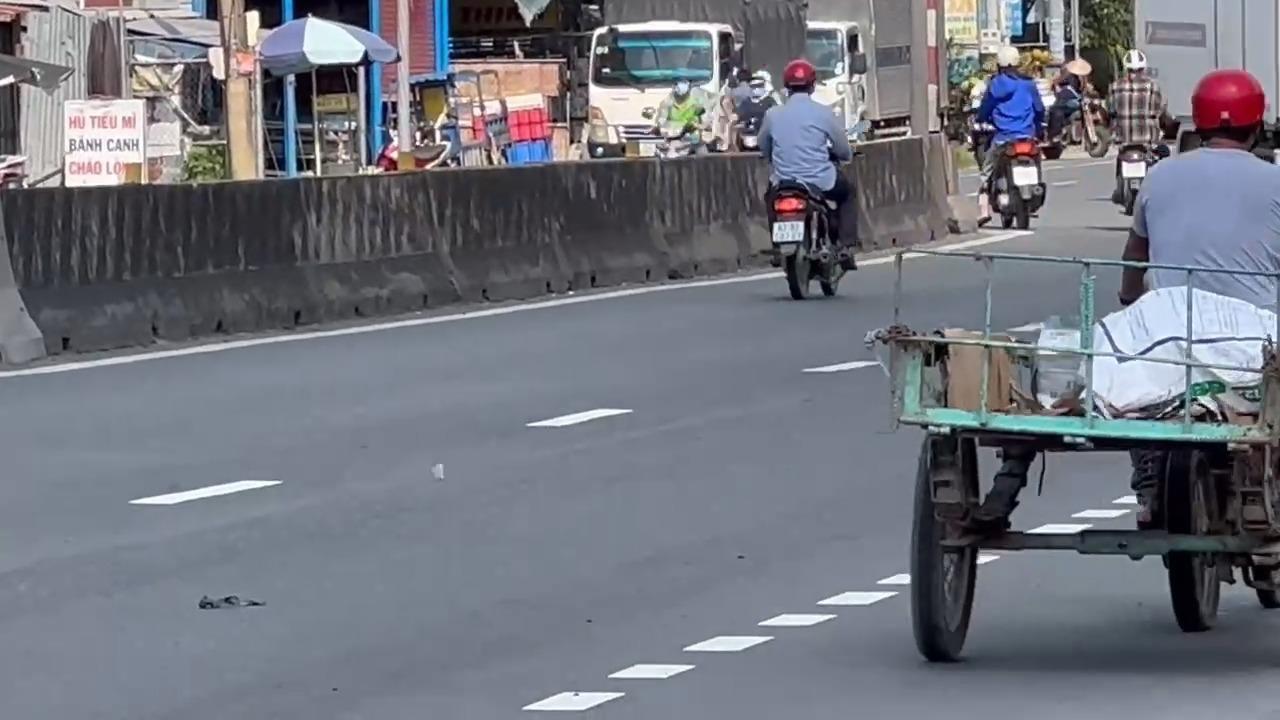bien_so: (770, 219, 804, 243)
